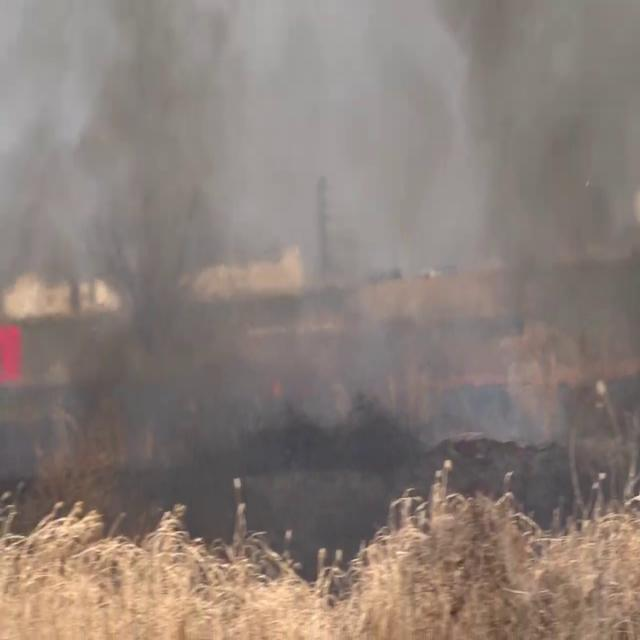Smoke: (0, 0, 640, 473)
